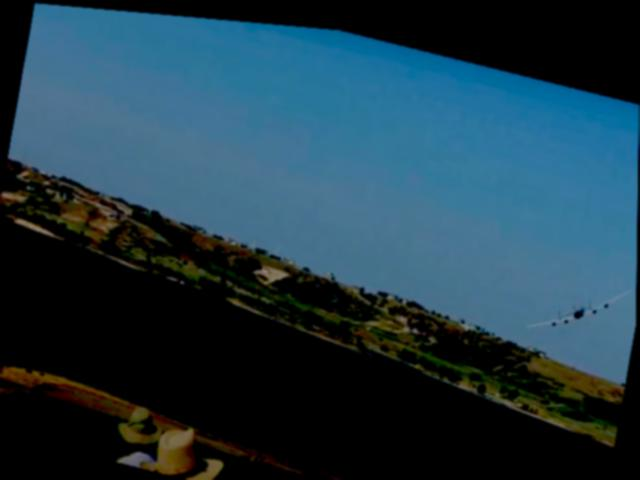iha: (527, 254, 631, 340)
